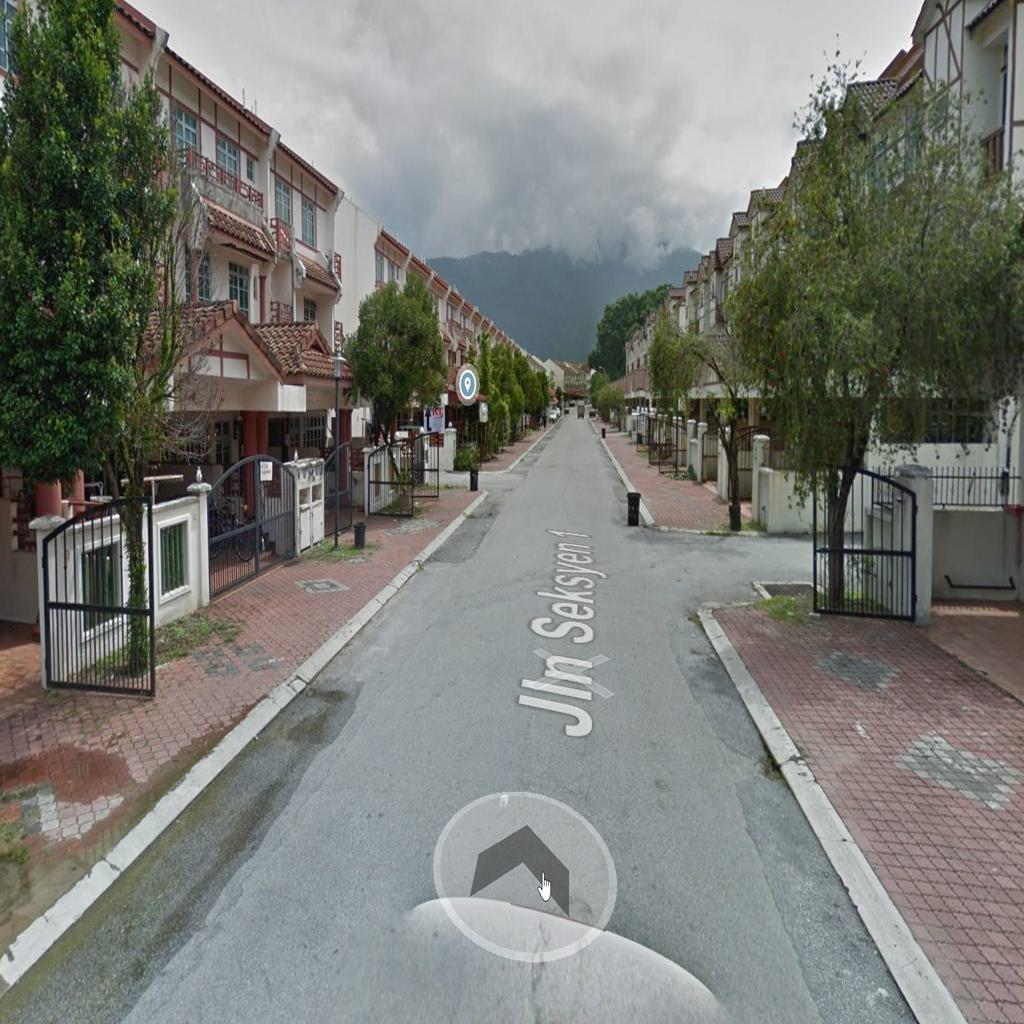Junction: (615, 478, 809, 656), (412, 439, 537, 511)
